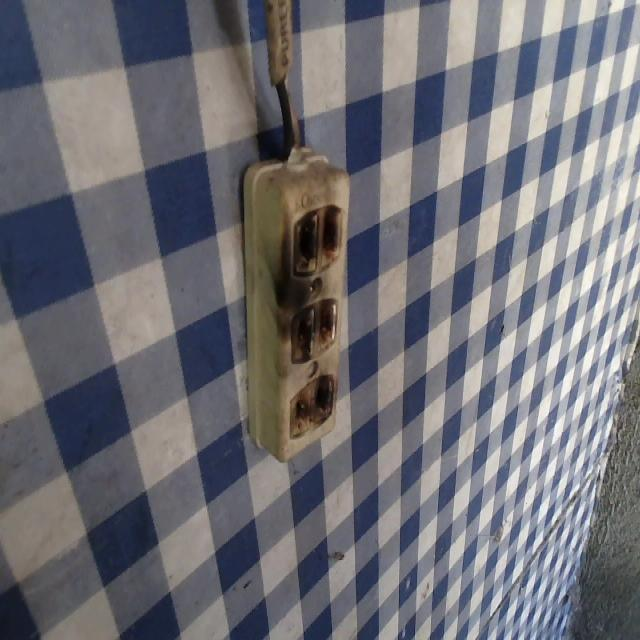-: (289, 201, 342, 275), (285, 371, 338, 440), (289, 297, 337, 360)
